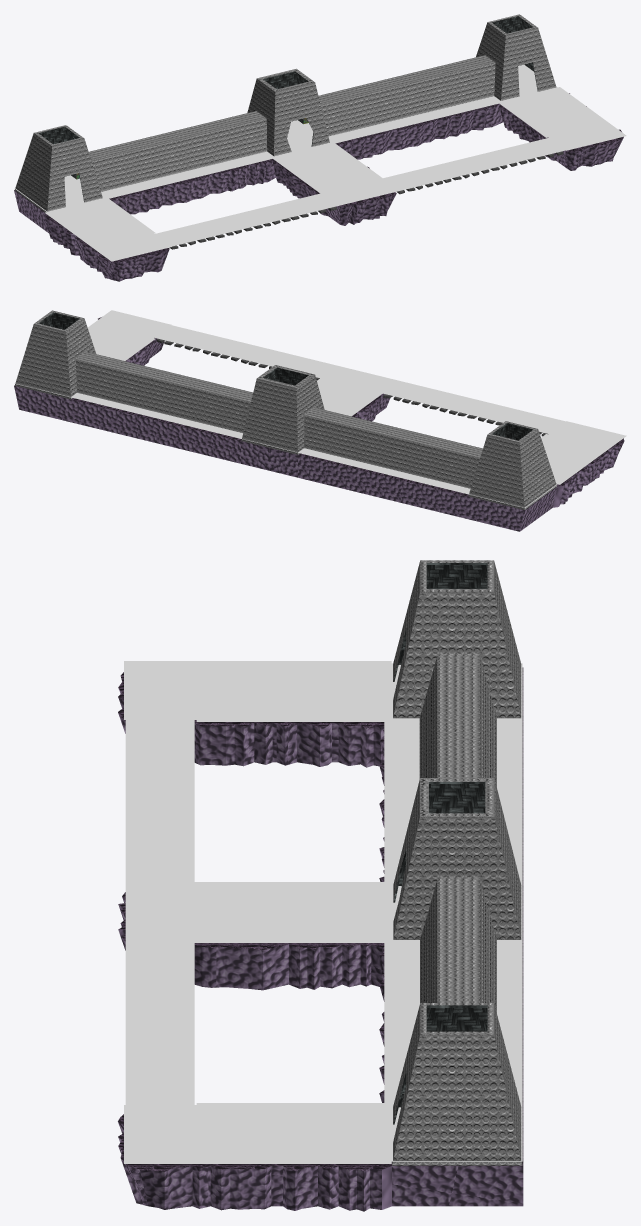
The model's file is level_A.glb.
3 views of the same model, one above another, from view 1: azimuth 30°, elevation 25°; view 2: azimuth 150°, elevation 25°; view 3: azimuth 270°, elevation 25° (orthographic). The views are drawn at different scales.
Parts seen in each view (by area): view 1: Bunker, Plane.018, Level, Bunker.001; view 2: Bunker, Plane.018, Level, Bunker.001; view 3: Plane.018, Bunker, Level, Bunker.001.
Boxes of the visible parts, x1,y1,x2,y2 form: Bunker: (15,14,556,212); Plane.018: (14,64,626,261); Level: (14,93,623,281); Bunker.001: (38,16,537,201); Bunker: (15,310,556,509); Plane.018: (14,310,626,507); Level: (14,317,624,531); Bunker.001: (38,312,533,440); Plane.018: (124,661,522,1163); Bunker: (392,560,522,1165); Level: (118,667,523,1211); Bunker.001: (393,563,487,1124).
Bounding box in the file's own units: 18.33 × 2.77 × 6.15.
6 materials, 6 textured.
